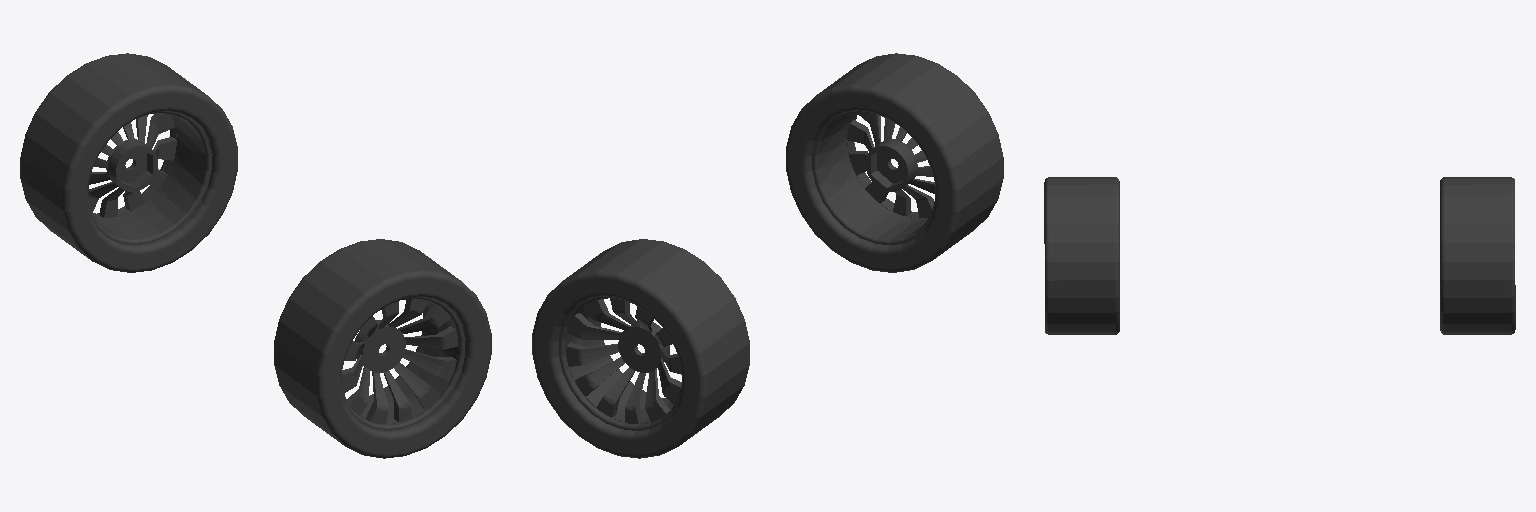
robot.urdf — robot_thesis:
<?xml version="1.0" ?>
<robot name="robot_thesis" xmlns:xacro="http://ros.org/wiki/xacro">

  <!-- Init colour -->
  <material name="black">
      <color rgba="0.0 0.0 0.0 1.0"/>
  </material>

  <material name="dark">
    <color rgba="0.3 0.3 0.3 1.0"/>
  </material>

  <material name="light_black">
    <color rgba="0.4 0.4 0.4 1.0"/>
  </material>

  <material name="blue">
    <color rgba="0.0 0.0 0.8 1.0"/>
  </material>

  <material name="green">
    <color rgba="0.0 0.8 0.0 1.0"/>
  </material>

  <material name="grey">
    <color rgba="0.5 0.5 0.5 1.0"/>
  </material>

  <material name="orange">
    <color rgba="1.0 0.4235 0.0392 1.0"/>
  </material>

  <material name="brown">
    <color rgba="0.8706 0.8118 0.7647 1.0"/>
  </material>

  <material name="red">
    <color rgba="0.8 0.0 0.0 1.0"/>
  </material>

  <material name="white">
    <color rgba="1.0 1.0 1.0 1.0"/>
  </material>

  <link name="base_footprint"/>

  <joint name="base_joint" type="fixed">
    <parent link="base_footprint"/>
    <child link="base_link"/>
    <origin xyz="0 0 0.010" rpy="0 0 0"/>
  </joint>

  <link name="base_link">
    <visual>
      <origin xyz="0 0 0.0525" rpy="0 0 -1.5707"/>
      <geometry>
        <mesh filename="package://robot_gazebo/models/robot_PIFBOT/meshes/dae/robot_base.dae"/>
      </geometry>
      <material name="light_black"/>
    </visual>

    <collision>
      <origin xyz="0 0 0.095" rpy="0 0 0"/>
      <geometry>
        <cylinder length="0.09" radius="0.1"/>
      </geometry>
    </collision>

    <inertial>
      <origin xyz="0 0 0" rpy="0 0 0"/>
      <mass value="8.2573504e-01"/>
      <inertia ixx="2.2124416e-03" ixy="-1.2294101e-05" ixz="3.4938785e-05"
               iyy="2.1193702e-03" iyz="-5.0120904e-06"
               izz="2.0064271e-03" />
    </inertial>
  </link>

  <joint name="wheel_left_joint" type="continuous">
    <parent link="base_link"/>
    <child link="wheel_left_link"/>
    <origin xyz="0.0 0.08 0.023" rpy="-1.57 0 0"/>
    <axis xyz="0 0 1"/>
  </joint>

  <link name="wheel_left_link">
    <visual>
      <origin xyz="0 0 0.014" rpy="0 1.5707 0"/>
      <geometry>
        <mesh filename="package://robot_gazebo/models/robot_PIFBOT/meshes/dae/robot_wheel.dae"/>
      </geometry>
      <material name="dark"/>
    </visual>

    <collision>
      <origin xyz="0 0 0" rpy="0 0 0"/>
      <geometry>
        <cylinder length="0.018" radius="0.033"/>
      </geometry>
    </collision>

    <inertial>
      <origin xyz="0 0 0" />
      <mass value="2.8498940e-02" />
      <inertia ixx="1.1175580e-05" ixy="-4.2369783e-11" ixz="-5.9381719e-09"
               iyy="1.1192413e-05" iyz="-1.4400107e-11"
               izz="2.0712558e-05" />
      </inertial>
  </link>

  <joint name="wheel_right_joint" type="continuous">
    <parent link="base_link"/>
    <child link="wheel_right_link"/>
    <origin xyz="0.0 -0.080 0.023" rpy="-1.57 0 0"/>
    <axis xyz="0 0 1"/>
  </joint>

  <link name="wheel_right_link">
    <visual>
      <origin xyz="0 0 -0.014" rpy="0 -1.5707 0"/>
      <geometry>
        <mesh filename="package://robot_gazebo/models/robot_PIFBOT/meshes/dae/robot_wheel.dae"/>
      </geometry>
      <material name="dark"/>
    </visual>

    <collision>
      <origin xyz="0 0 0" rpy="0 0 0"/>
      <geometry>
        <cylinder length="0.018" radius="0.033"/>
      </geometry>
    </collision>

    <inertial>
      <origin xyz="0 0 0" />
      <mass value="2.8498940e-02" />
      <inertia ixx="1.1175580e-05" ixy="-4.2369783e-11" ixz="-5.9381719e-09"
               iyy="1.1192413e-05" iyz="-1.4400107e-11"
               izz="2.0712558e-05" />
      </inertial>
  </link>

  <joint name="caster_back_joint" type="fixed">
    <parent link="base_link"/>
    <child link="caster_back_link"/>
    <origin xyz="-0.081 0 -0.004" rpy="-1.57 0 0"/>
  </joint>

  <link name="caster_back_link">
    <collision>
      <origin xyz="0 0.001 0" rpy="0 0 0"/>
      <geometry>
        <box size="0.030 0.009 0.020"/>
      </geometry>
    </collision>

    <inertial>
      <origin xyz="0 0 0" />
      <mass value="0.005" />
      <inertia ixx="0.001" ixy="0.0" ixz="0.0"
               iyy="0.001" iyz="0.0"
               izz="0.001" />
    </inertial>
  </link>

  <joint name="caster_front_joint" type="fixed">
    <parent link="base_link"/>
    <child link="caster_front_link"/>
    <origin xyz="0.081 0 -0.0025" rpy="-1.57 0 0"/>
  </joint>

  <link name="caster_front_link">
    <collision>
      <origin xyz="0 0.001 0" rpy="0 0 0"/>
      <geometry>
        <box size="0.030 0.009 0.020"/>
      </geometry>
    </collision>

    <inertial>
      <origin xyz="0 0 0" />
      <mass value="0.005" />
      <inertia ixx="0.001" ixy="0.0" ixz="0.0"
               iyy="0.001" iyz="0.0"
               izz="0.001" />
    </inertial>
  </link>

  <joint name="imu_joint" type="fixed">
    <parent link="base_link"/>
    <child link="imu_link"/>
    <origin xyz="-0.032 0 0.068" rpy="0 0 0"/>
  </joint>

  <link name="imu_link"/>

  <joint name="scan_joint" type="fixed">
    <parent link="base_link"/>
    <child link="base_scan"/>
    <origin xyz="-0.02 0 0.172" rpy="0 0 0"/>
  </joint>

  <link name="base_scan">
    <collision>
      <origin xyz="0.0 0 0.02" rpy="0 0 0"/>
      <geometry>
        <cylinder length="0.0315" radius="0.035"/>
      </geometry>
    </collision>

    <inertial>
      <mass value="0.114" />
      <origin xyz="0 0 0" />
      <inertia ixx="0.001" ixy="0.0" ixz="0.0"
               iyy="0.001" iyz="0.0"
               izz="0.001" />
    </inertial>
  </link>

</robot>

--- What the picture shows (computed from the rendered views, not written in the file) ---
Views: 3 orthographic renders of the robot side by side, from view 1: azimuth 30°, elevation 25°; view 2: azimuth 150°, elevation 25°; view 3: azimuth 270°, elevation 25°.
Model robot_thesis with 8 links and 7 joints (2 continuous, 5 fixed), rooted at base_footprint, posed all joints at 0.
Links seen in each view (by area): view 1: wheel_left_link, wheel_right_link; view 2: wheel_left_link, wheel_right_link; view 3: wheel_right_link, wheel_left_link.
Boxes of the visible links, x1=… form: wheel_left_link: x1=20, y1=53, x2=237, y2=272; wheel_right_link: x1=274, y1=239, x2=491, y2=458; wheel_left_link: x1=532, y1=239, x2=749, y2=458; wheel_right_link: x1=786, y1=53, x2=1003, y2=272; wheel_right_link: x1=1044, y1=177, x2=1119, y2=334; wheel_left_link: x1=1440, y1=177, x2=1515, y2=334.
Size in the robot's own frame: 0.0645 by 0.194 by 0.065 metres.
2 mesh visuals loaded from 2 distinct referenced files (1 Collada DAE); not drawn: 1 (reference not matched to a file when rendering).